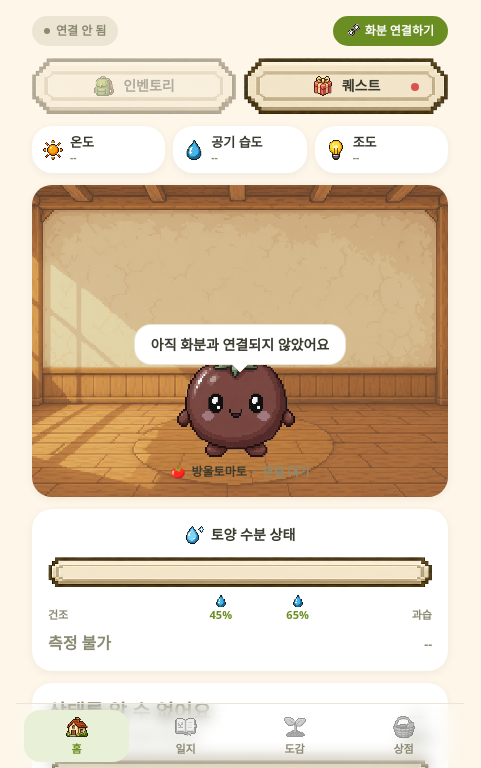
Test: 탭 이동 › 하단 탭 4개로 화면이 전환된다
Click the link "도감". click: [294, 735]
box: [282,715,306,756]
Wait 50 ms
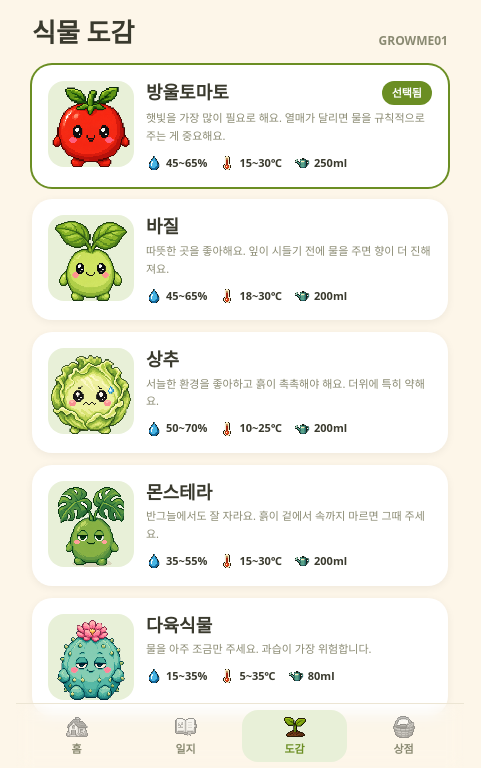
expect the heading "식물 도감" is shown: met, box [32,16,134,48]
Click the link "일지". click: [186, 735]
box: [174,715,198,756]
Wait 50 ms
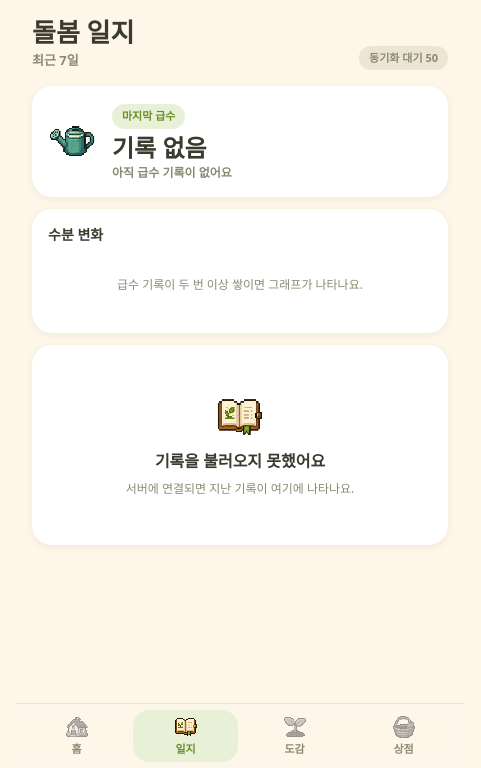
expect the heading "돌봄 일지" is shown: met, box [32,16,134,48]
Click the link "상점". click: [404, 735]
box: [392,715,416,756]
Wait 50 ms
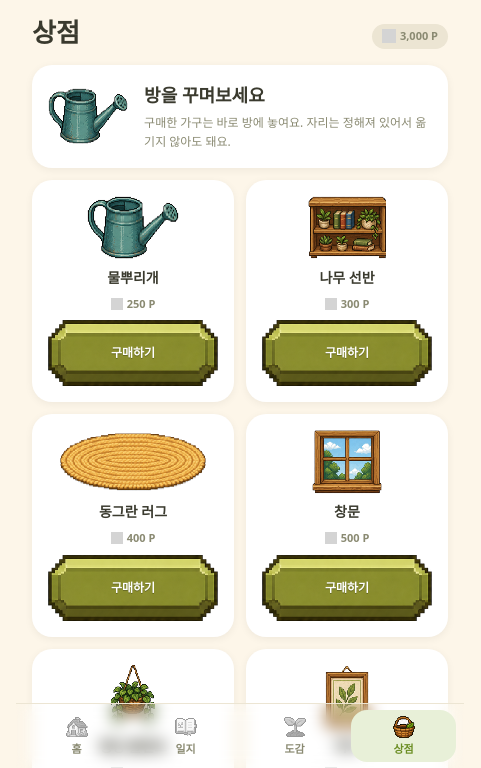
expect the text "방을 꾸며보세요" is shown: met, box [144,82,265,106]
